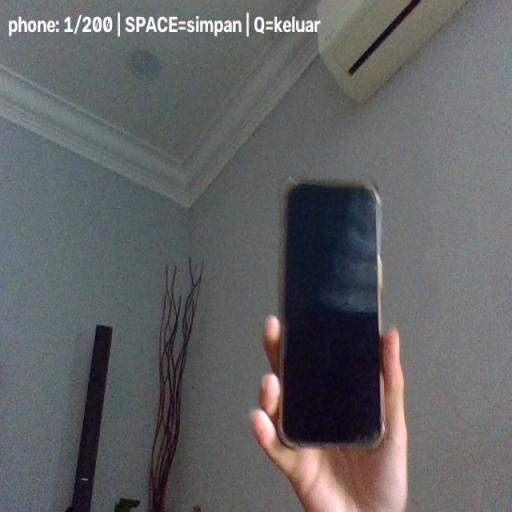Phone: (276, 177, 386, 449)
